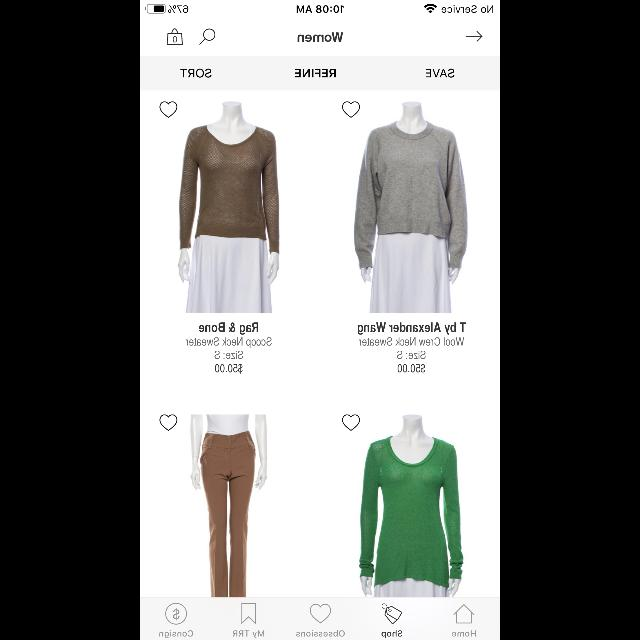icon: (166, 604, 187, 624), (382, 604, 402, 624), (310, 604, 330, 622), (454, 604, 474, 622), (242, 602, 256, 624), (342, 415, 360, 431), (342, 102, 360, 118), (160, 415, 177, 431), (160, 102, 177, 118), (199, 29, 215, 45), (466, 31, 482, 41)
image: (354, 101, 468, 312), (178, 101, 280, 312), (359, 415, 463, 597), (190, 415, 268, 597)
text: (358, 323, 466, 335), (186, 338, 272, 348), (358, 338, 464, 346), (200, 323, 258, 335), (298, 32, 342, 42), (180, 68, 212, 78), (296, 69, 336, 77), (296, 630, 344, 636), (426, 68, 454, 78), (159, 630, 193, 638), (215, 364, 242, 374), (398, 364, 424, 374), (167, 28, 183, 44), (233, 630, 264, 638), (215, 351, 243, 359), (397, 351, 425, 359), (382, 630, 402, 638), (452, 630, 476, 636)
uppertaskbar: (140, 0, 500, 14)
